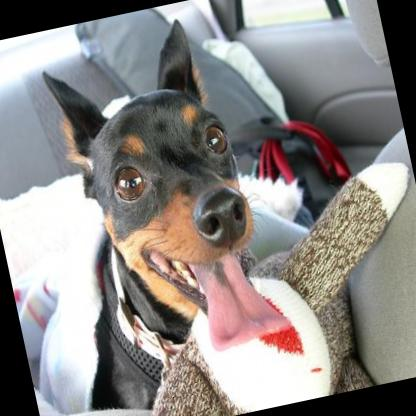miniature_pinscher: (15, 4, 301, 416)
